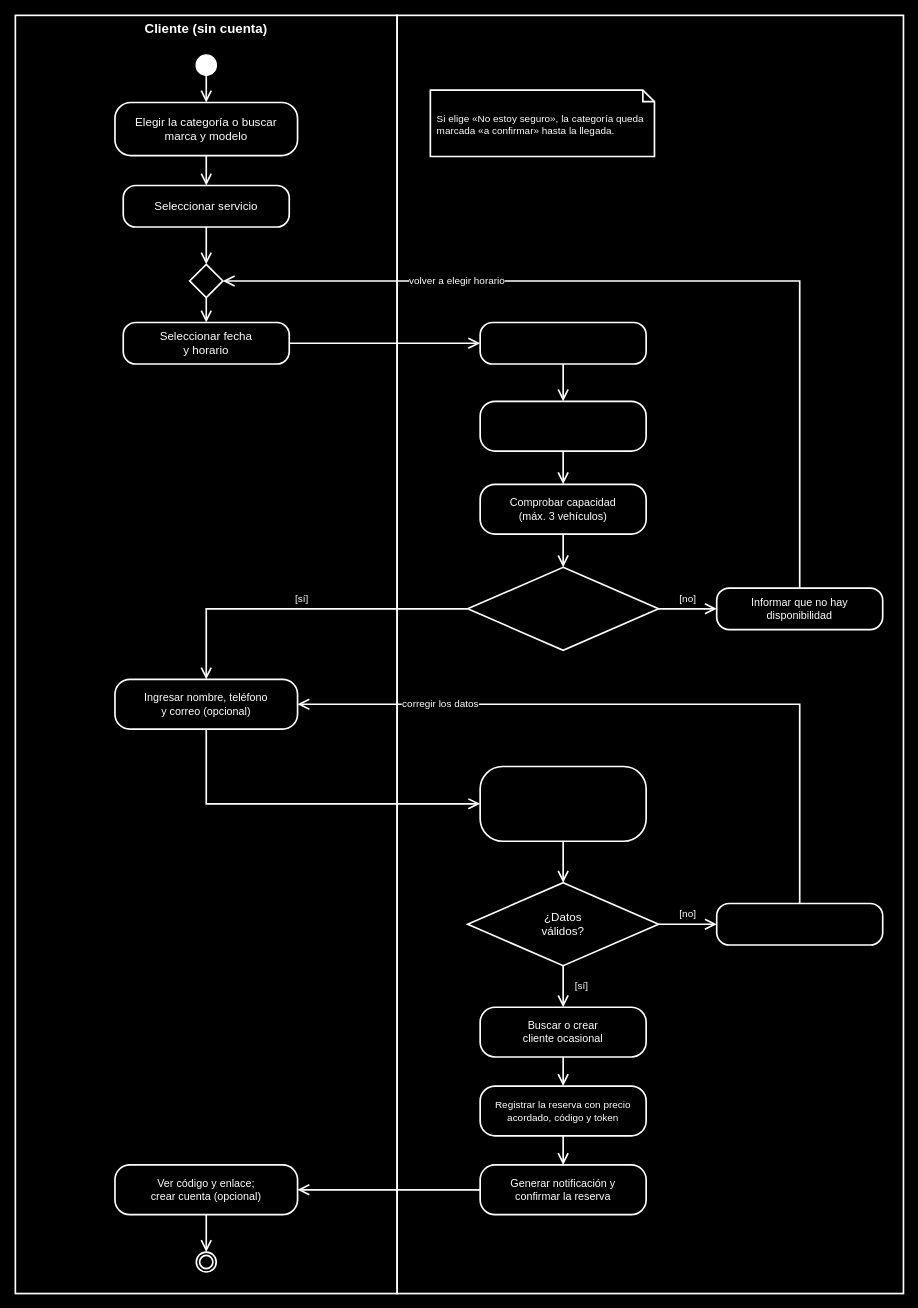
This 918x1308 diagram has some shape labels left out. Each missing label, with the box of its shape:
Calcular precio y duración: (479, 321, 647, 364)
Informar el error: (715, 902, 883, 945)
Sistema WashFlow: (396, 14, 904, 1294)
Validar datos y límites (campo trampa, IP, máx. 3 reservas activas, teléfono): (479, 765, 647, 842)
Validar horario de atención (lun–sáb, 10:00–18:00): (479, 400, 647, 452)
¿Hay disponibilidad?: (466, 566, 659, 651)
